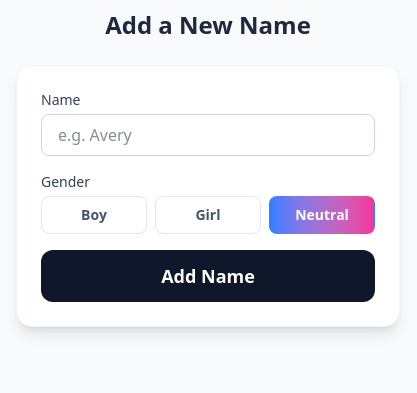
Test: Submit › handles error
Type "Zoe" into the field with placeholder "e.g. Avery". click: (208, 135)
box: [41,114,375,156]
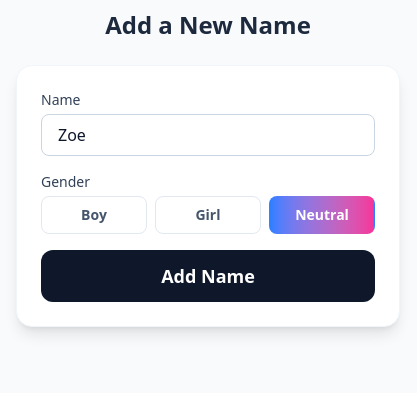
Click the button "Add Name". click: (208, 276)
box: [41,250,375,302]
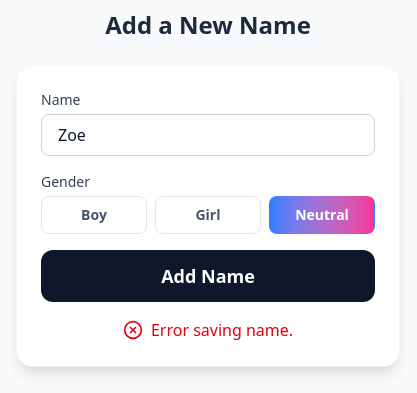
Expected: the text "Error saving name." is shown, [123,319,293,341]
